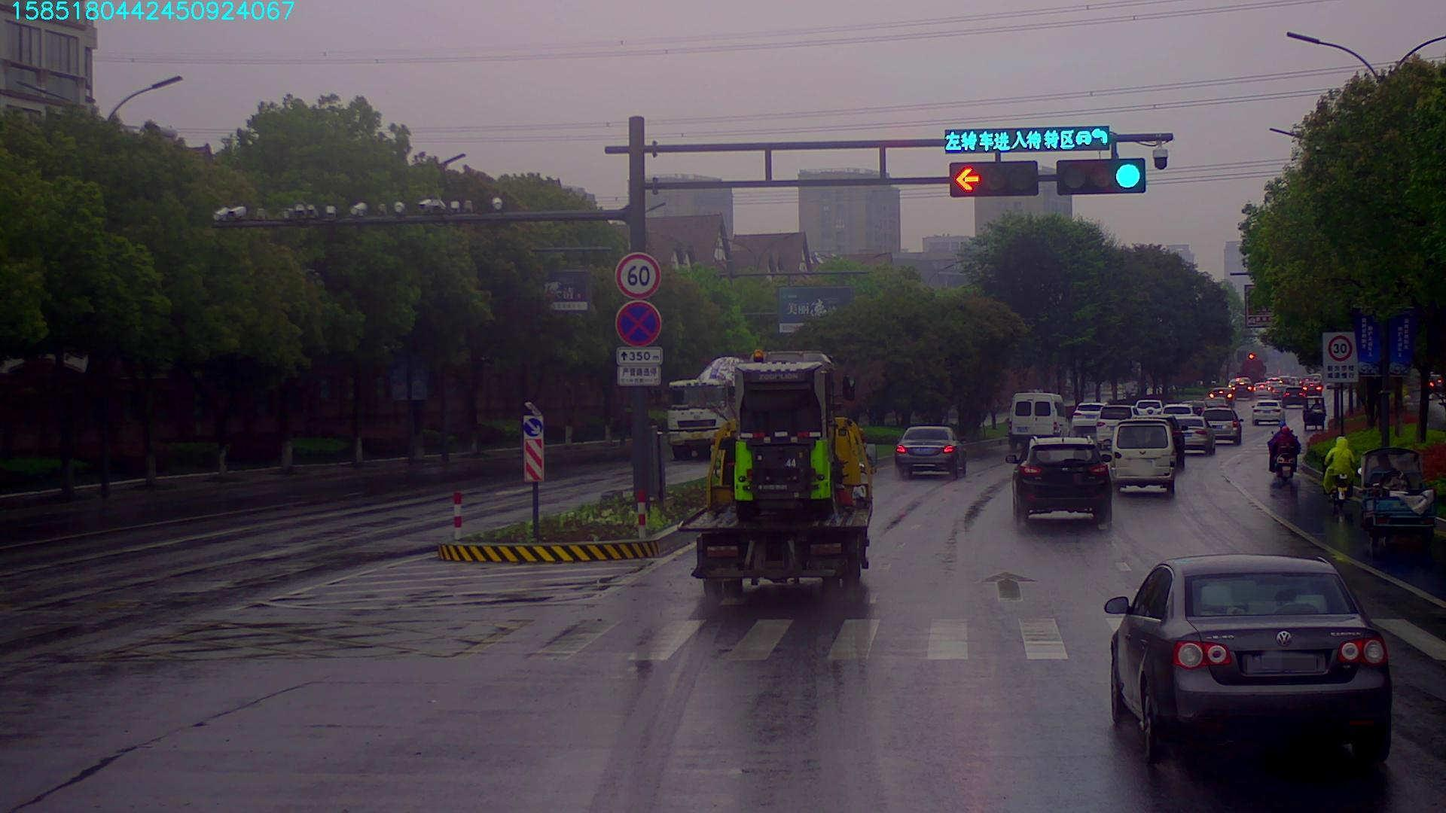green: (1054, 160, 1154, 196)
red: (950, 160, 1035, 200)
wait_on: (944, 125, 1121, 149)
